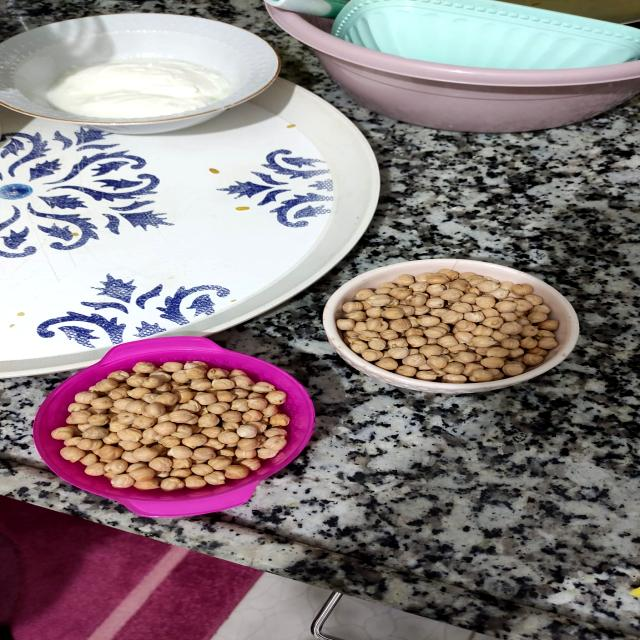chickpeas: (24, 338, 322, 516), (328, 257, 588, 394)
yogurt: (0, 14, 274, 142)
